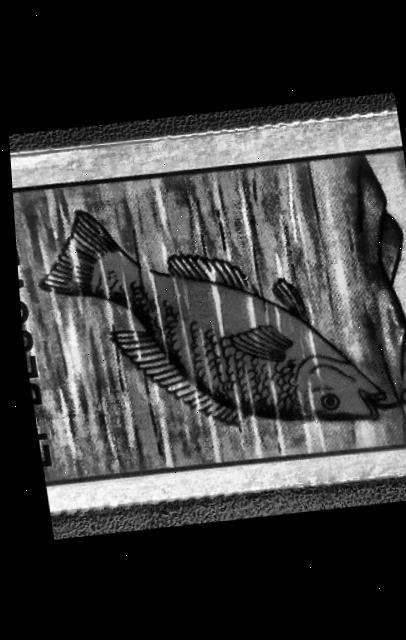El Pescado: (7, 131, 406, 495)
